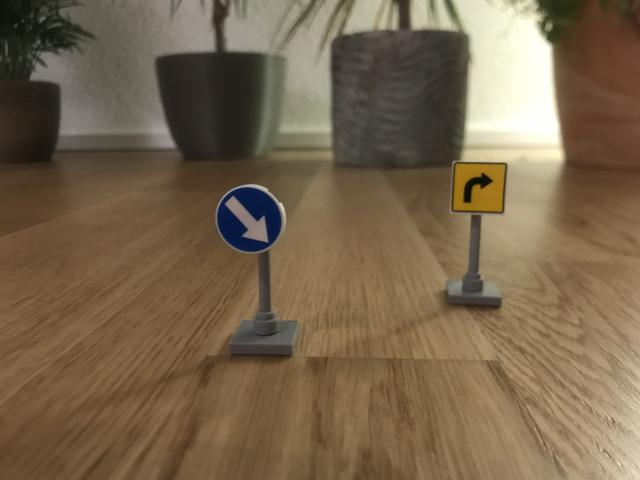fahrtrichtung rechts: (452, 159, 509, 217)
rechts halten: (217, 181, 287, 255)
